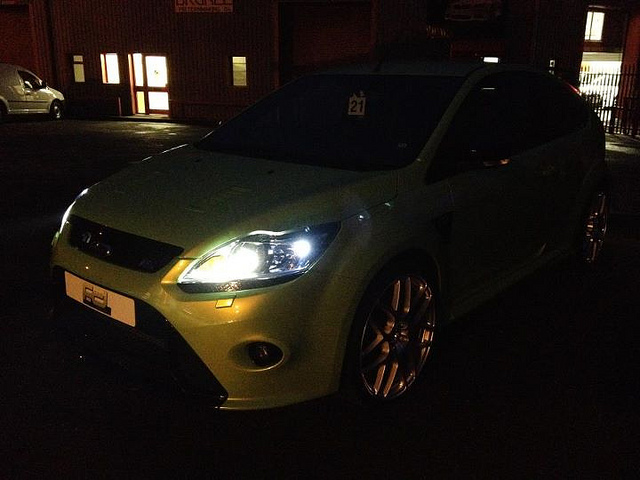car: (45, 49, 625, 428)
